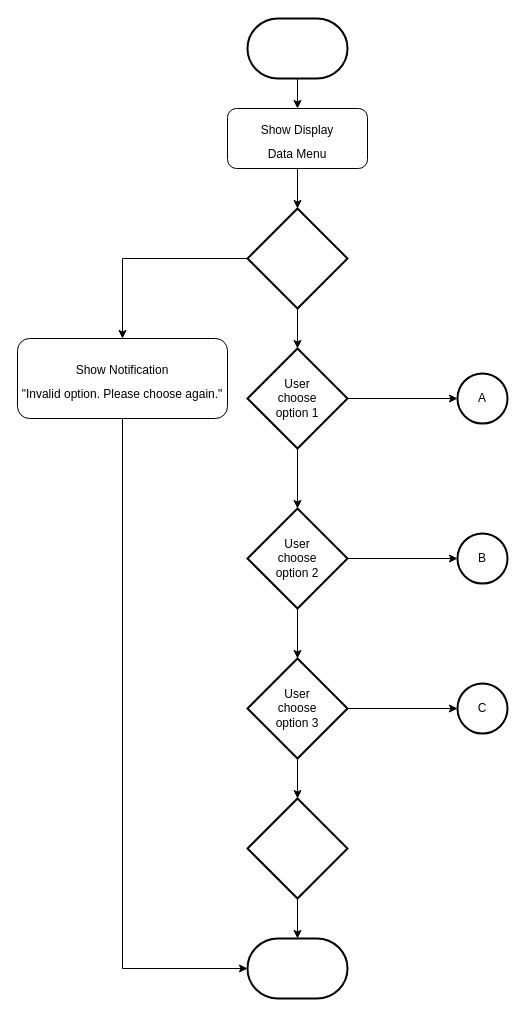
The diagram is 526 pixels wide and 1016 high, and some of its shapes have lost their labels. Each missing label, with the centre of its shape:
"End" goes at [297,968].
"Start" goes at [297,48].
"User choose ineligible option" goes at [297,258].
"User choose option 4" goes at [297,848].
